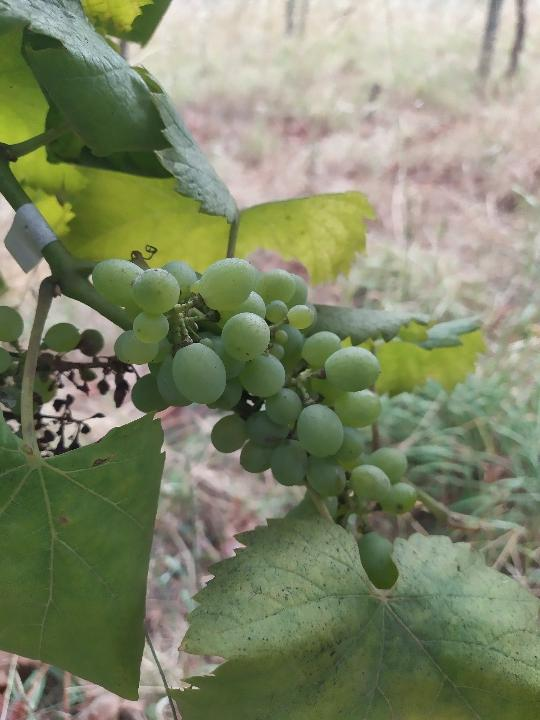grape: (87, 254, 419, 518)
